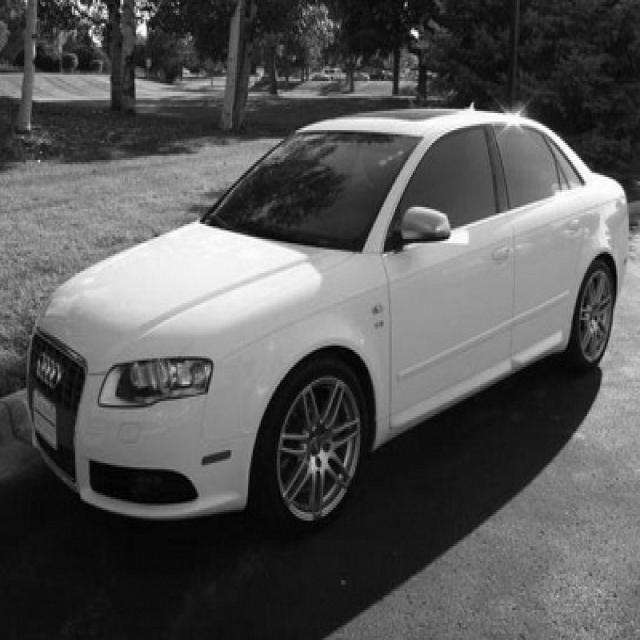car: (24, 100, 629, 534)
